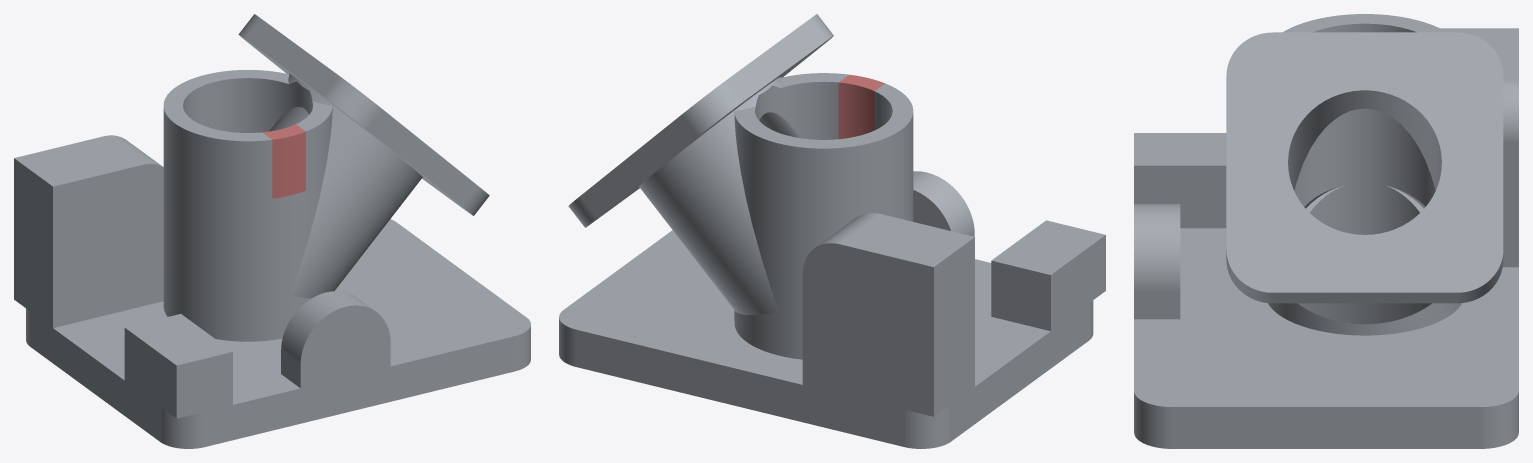
Rendered from step_08.glb.
3 views of the same model, side by side, from view 1: azimuth 30°, elevation 25°; view 2: azimuth 150°, elevation 25°; view 3: azimuth 270°, elevation 25° (orthographic). The views are drawn at different scales.
Visible parts, largest first — view 1: part__tube bracket, removed__tube bracket; view 2: part__tube bracket, removed__tube bracket; view 3: part__tube bracket.
Part boxes in pixels (x1,y1,x2,y2): part__tube bracket: (14,14,530,448); removed__tube bracket: (262,124,305,198); part__tube bracket: (559,14,1105,448); removed__tube bracket: (838,74,884,139); part__tube bracket: (1134,14,1518,448).
Bounding box in the file's own units: 65 × 47.73 × 50.
